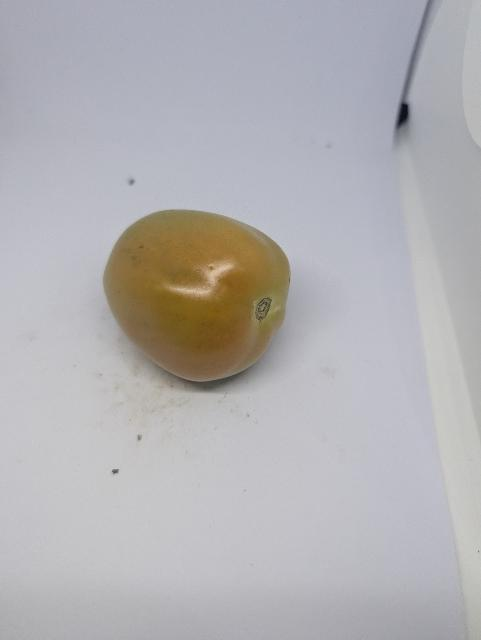turning: (104, 210, 291, 381)
